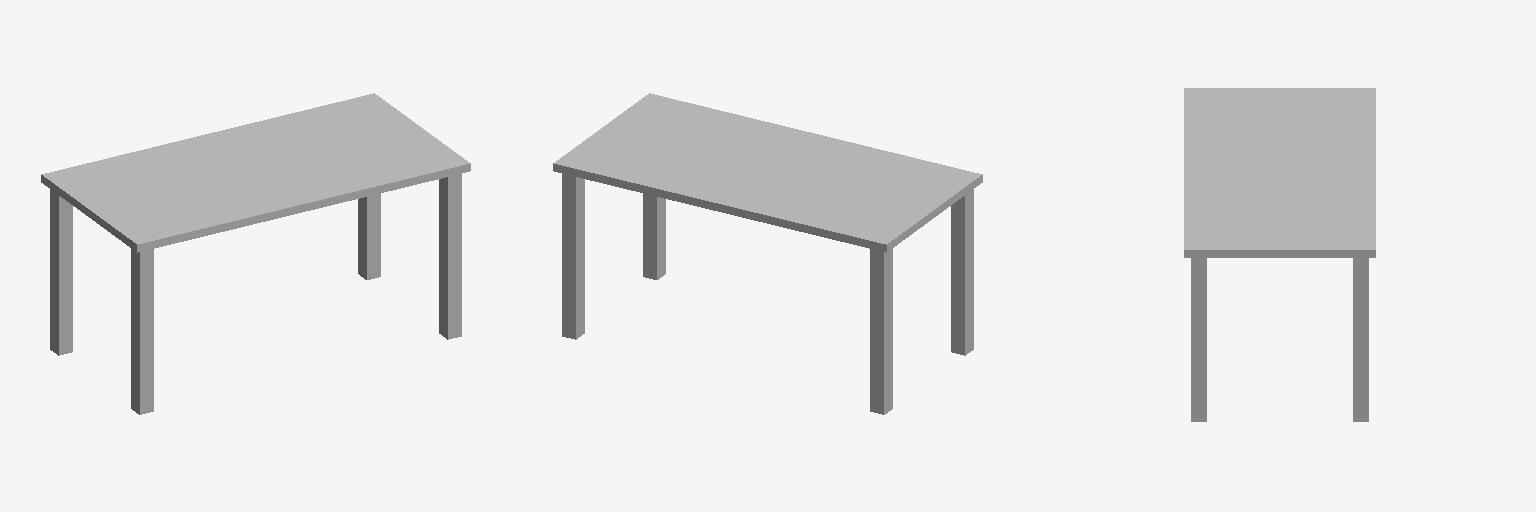
Rendered from table.obj.
3 views of the same model, side by side, from view 1: azimuth 30°, elevation 25°; view 2: azimuth 150°, elevation 25°; view 3: azimuth 270°, elevation 25° (orthographic).
Parts seen in each view (by area): view 1: Table_Cube.001; view 2: Table_Cube.001; view 3: Table_Cube.001.
Boxes of the visible parts, box(x1,y1,x2,y2) form: Table_Cube.001: box(41, 93, 470, 414); Table_Cube.001: box(553, 93, 982, 414); Table_Cube.001: box(1184, 88, 1375, 421).
Size of the model in its own units: 6.85 by 3.42 by 3.42.